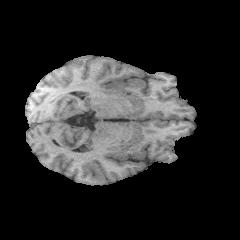glioma: (102, 63, 145, 94)
